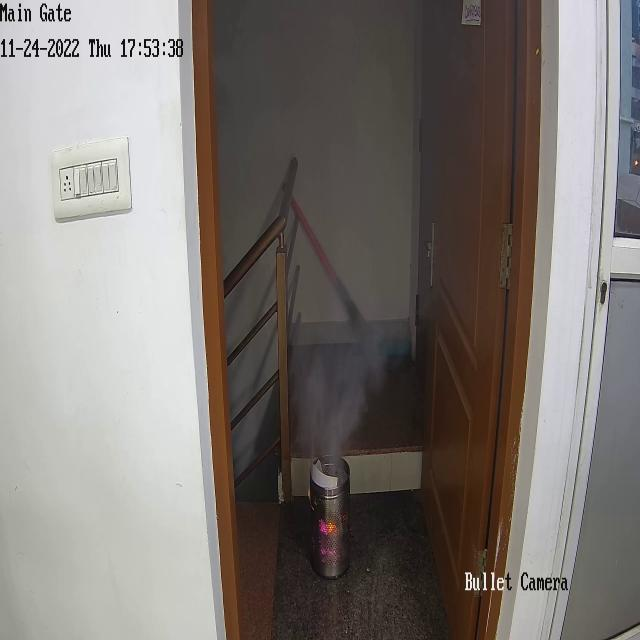fire: (316, 508, 339, 551)
smoke: (294, 349, 356, 454), (331, 298, 404, 384), (328, 119, 402, 202), (330, 30, 392, 124), (344, 212, 408, 280), (347, 364, 371, 415)
